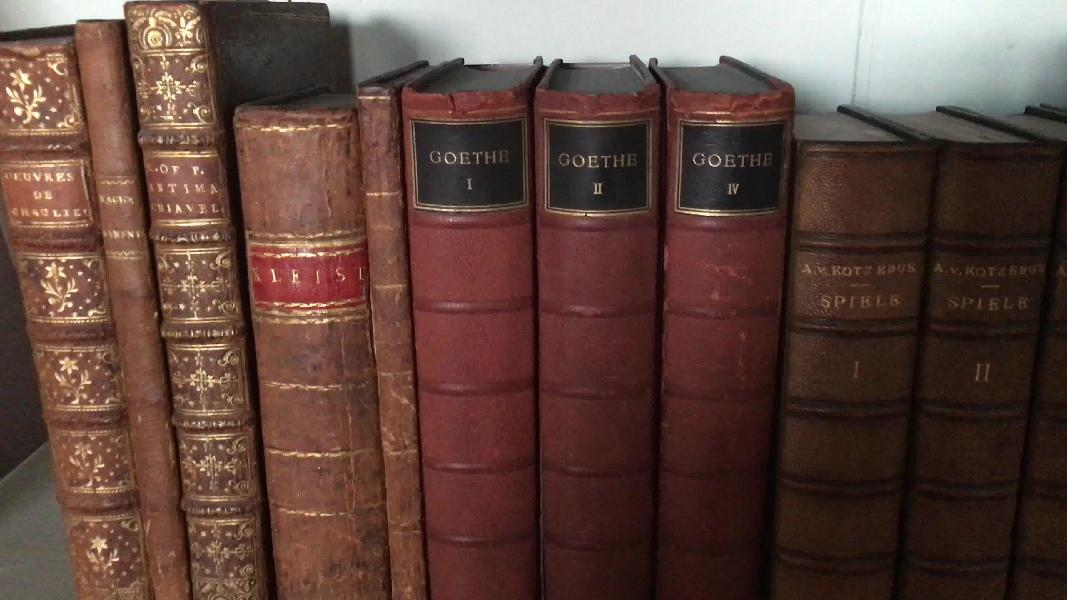Aa6-10: (352, 73, 444, 600)
Aa6-11_13: (391, 77, 768, 600)
Aa6-14_17: (765, 135, 1067, 600)
Aa6-6: (1, 33, 145, 582)
Aa6-7: (64, 8, 202, 600)
Aa6-8: (120, 4, 288, 600)
Aa6-9: (212, 65, 391, 600)
